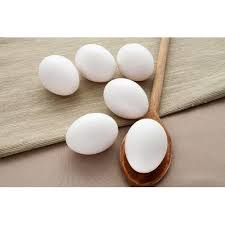eggs: (125, 113, 170, 175), (67, 110, 117, 156), (39, 53, 83, 97), (106, 76, 147, 119), (73, 43, 115, 81), (118, 42, 155, 82)
